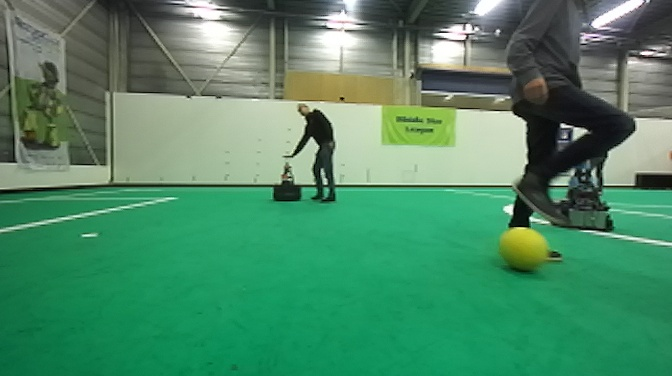ball: (496, 223, 550, 277)
human: (503, 1, 641, 266), (281, 100, 341, 203)
robot: (549, 139, 616, 232), (271, 152, 304, 203)
